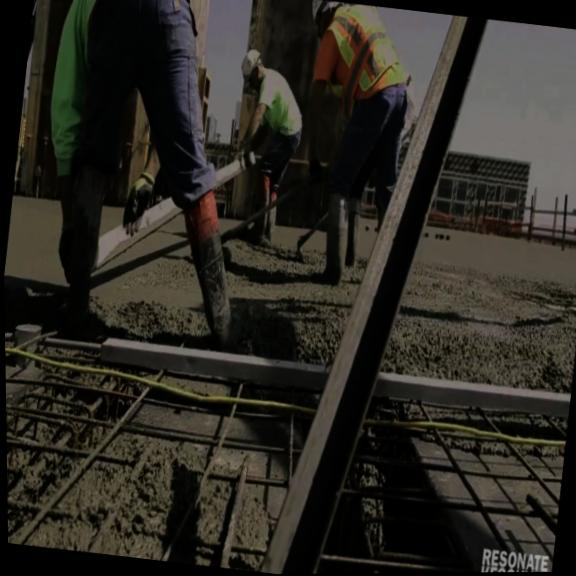safety_vest: (314, 0, 407, 120)
